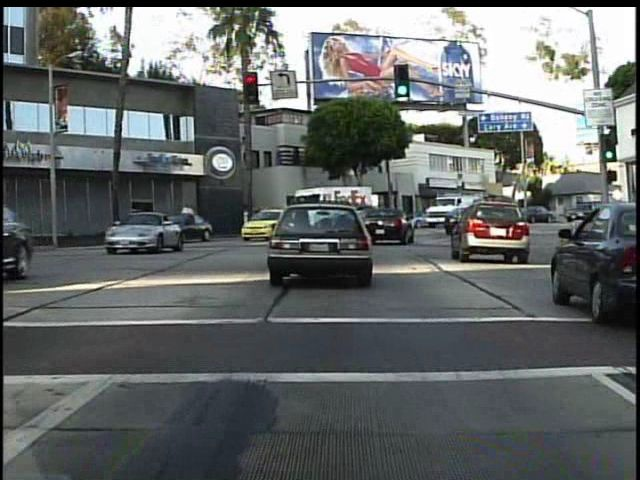person: (251, 203, 267, 236)
